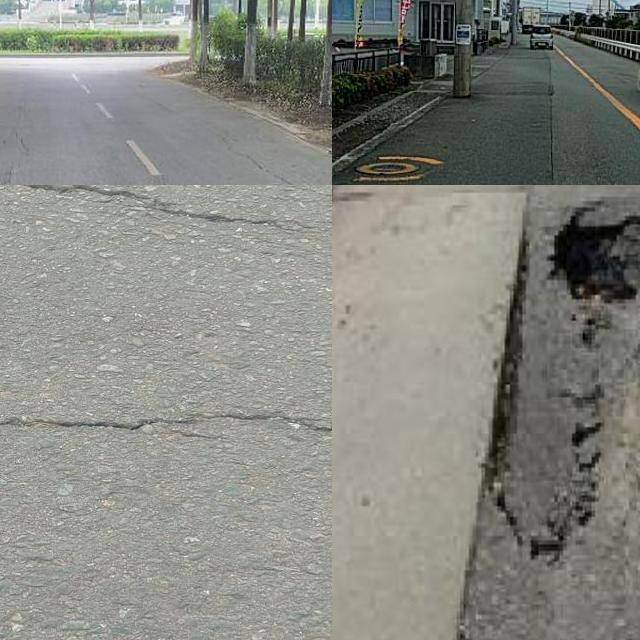Lubang: (499, 260, 602, 542), (545, 208, 640, 309)
Melintang: (0, 185, 309, 247), (0, 404, 332, 452)
Memanjang: (539, 70, 567, 185)
